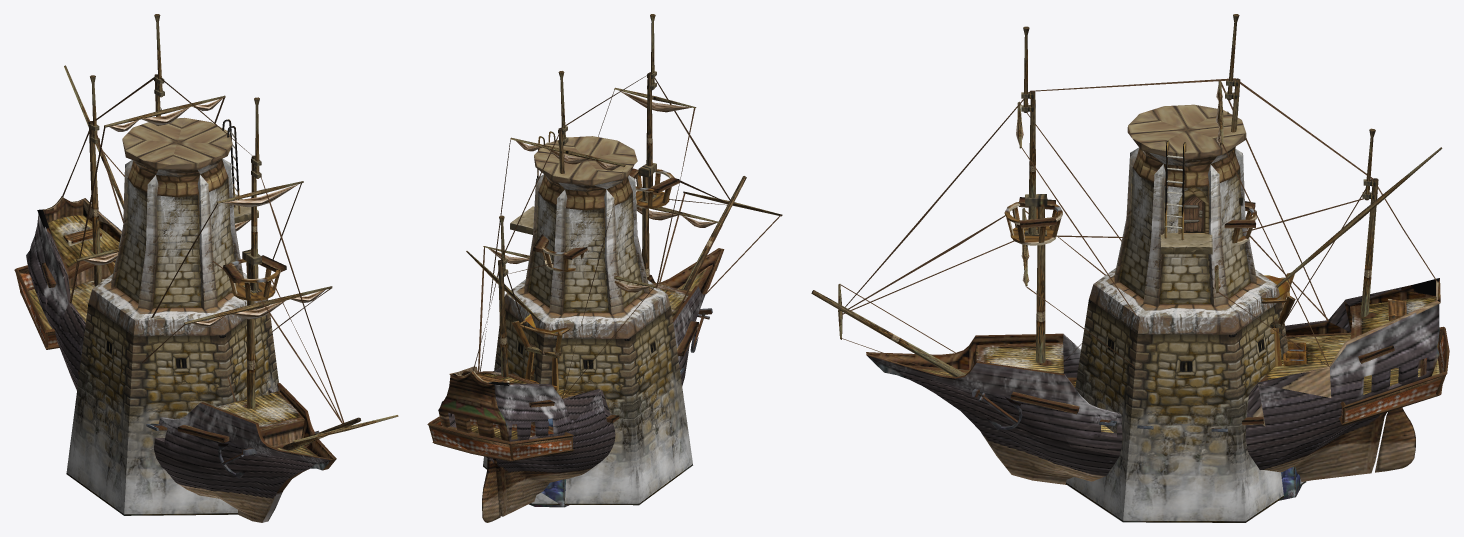
File: CR_changjing_matou.fbx
The picture shows the model from 3 angles, left to right: view 1: azimuth 30°, elevation 25°; view 2: azimuth 150°, elevation 25°; view 3: azimuth 270°, elevation 25°; orthographic projection. The views are drawn at different scales.
Parts seen in each view (by area): view 1: diaobao, chuan; view 2: diaobao, chuan, muwu; view 3: chuan, diaobao, muwu.
Part boxes in pixels (box(x1,y1,x2,y2)): diaobao: box(66, 117, 278, 515); chuan: box(14, 14, 398, 522); diaobao: box(483, 131, 692, 505); chuan: box(427, 14, 782, 522); muwu: box(511, 314, 570, 507); chuan: box(811, 14, 1449, 484); diaobao: box(1066, 104, 1305, 522); muwu: box(1261, 272, 1301, 500).
Bounding box in the file's own units: 9 × 21.02 × 25.62.
